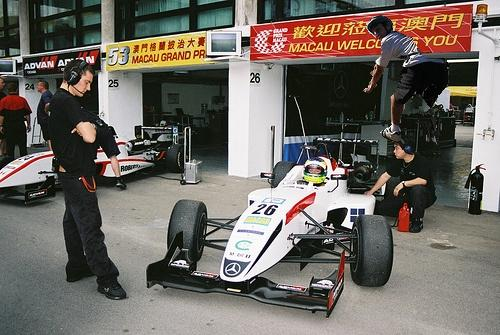tampered: (364, 16, 449, 144)
